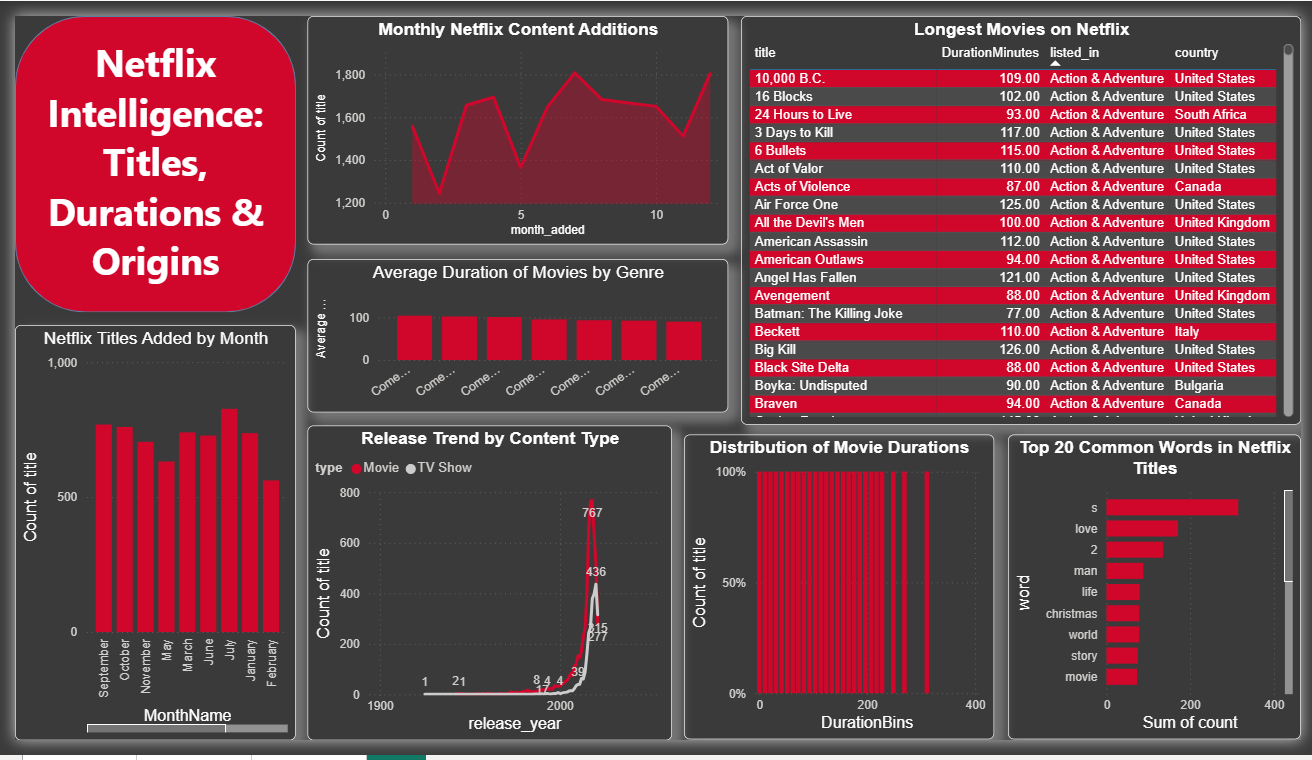

The dashboard page shown, as its layout file describes it:
{"tool":"powerbi","page":{"name":"Page 3","canvas":[1280,720],"ordinal":2},"visuals":[{"type":"areaChart","title":"Monthly Netflix Content Additions","fields":{"Y":["CountNonNull(GenreSplit.title)"],"Category":["GenreSplit.month_added"]},"box":[291.5,0,418.6,227.1],"z":0},{"type":"barChart","title":"Top 20 Common Words in Netflix Titles","fields":{"Y":["Sum(common_words.count)"],"Category":["common_words.word"]},"box":[988.1,416.9,291.5,303.4],"z":1000},{"type":"clusteredColumnChart","title":"Average Duration of Movies by Genre","fields":{"Y":["Avg(netflix_cleaned.DurationMinutes)"],"Category":["netflix_cleaned.listed_in"]},"box":[291.5,242.4,418.6,152.5],"z":2000},{"type":"hundredPercentStackedColumnChart","title":"Distribution of Movie Durations","fields":{"Category":["netflix_cleaned.DurationBins"],"Y":["CountNonNull(netflix_cleaned.title)"]},"box":[666.1,416.9,308.5,303.4],"z":3000},{"type":"columnChart","title":"Netflix Titles Added by Month","fields":{"Y":["CountNonNull(netflix_cleaned.title)"],"Category":["netflix_cleaned.MonthName"]},"box":[0,306.8,279.7,413.6],"z":4000},{"type":"tableEx","title":"Longest Movies on Netflix","fields":{"Values":["netflix_cleaned.title","netflix_cleaned.DurationMinutes","netflix_cleaned.listed_in","netflix_cleaned.country"]},"box":[722,0,557.6,406.8],"z":5000},{"type":"lineChart","title":"Release Trend by Content Type","fields":{"Category":["netflix_cleaned.release_year"],"Y":["CountNonNull(netflix_cleaned.title)"],"Series":["netflix_cleaned.type"]},"box":[291.5,406.8,362.7,313.6],"z":6000},{"type":"shape","box":[0,0,279.7,294.9],"z":7000}]}

Visuals, with their boxes in screenshot pixels (x1, y1, x2, y2), scaled from the page's 1280x720 canvas onto the 1312x760 screenshot:
"Monthly Netflix Content Additions" areaChart: box(299, 0, 728, 240)
"Top 20 Common Words in Netflix Titles" barChart: box(1013, 440, 1311, 759)
"Average Duration of Movies by Genre" clusteredColumnChart: box(299, 256, 728, 417)
"Distribution of Movie Durations" hundredPercentStackedColumnChart: box(683, 440, 999, 759)
"Netflix Titles Added by Month" columnChart: box(0, 324, 287, 759)
"Longest Movies on Netflix" tableEx: box(740, 0, 1311, 429)
"Release Trend by Content Type" lineChart: box(299, 429, 671, 759)
shape: box(0, 0, 287, 311)
